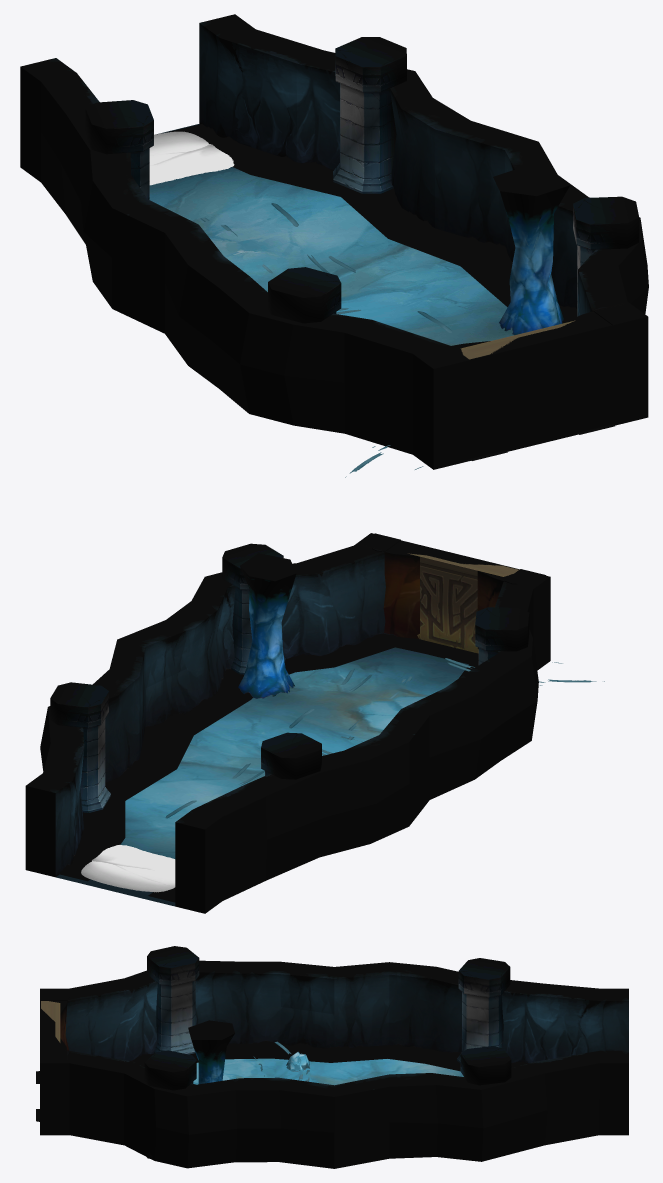
Rendered from Dungeon_033_StartRoad_002.fbx.
The picture shows the model from 3 angles, top to bottom: view 1: azimuth 30°, elevation 25°; view 2: azimuth 150°, elevation 25°; view 3: azimuth 270°, elevation 25°; orthographic projection. The views are drawn at different scales.
Visible parts, largest first — view 1: Dan1, Dan2, Dun_011_Door_002_old, Dan1_shadow, Dungeon_033_Pillar_001, Dungeon_011_Object_010, Dungeon_033_Pillar_001 (3), Dungeon_033_Pillar_001 (1), Dungeon_033_Pillar_001 (2), Exit_Light, Dun_011_Door_002, Dun_011_Door_003_WarpRoom; view 2: Dan1, Dan2, Dan1_shadow, Dungeon_011_Object_010, Dun_011_Door_002_old, Dun_011_Door_003_WarpRoom, Dungeon_033_Pillar_001, Exit_Light, Dungeon_033_Pillar_001 (1), Dungeon_033_Pillar_001 (2), Dungeon_033_Pillar_001 (3), Dun_011_Door_002_shadow; view 3: Dan1, Dungeon_033_Pillar_001 (2), Dungeon_033_Pillar_001 (3), Dan1_shadow, Dan2, Dungeon_011_Object_010, Dungeon_033_Pillar_001 (1), Dungeon_033_Pillar_001, Dun_011_Door_002_old, Dun_011_Door_003_WarpRoom.
Boxes of the visible parts, x1=… form: Dan1: x1=20, y1=14, x2=648, y2=469; Dan2: x1=149, y1=124, x2=513, y2=345; Dun_011_Door_002_old: x1=420, y1=303, x2=642, y2=458; Dan1_shadow: x1=166, y1=124, x2=614, y2=460; Dungeon_033_Pillar_001: x1=333, y1=37, x2=406, y2=193; Dungeon_011_Object_010: x1=493, y1=168, x2=569, y2=335; Dungeon_033_Pillar_001 (3): x1=85, y1=100, x2=153, y2=199; Dungeon_033_Pillar_001 (1): x1=573, y1=196, x2=639, y2=316; Dungeon_033_Pillar_001 (2): x1=268, y1=267, x2=341, y2=323; Exit_Light: x1=149, y1=131, x2=234, y2=185; Dun_011_Door_002: x1=421, y1=303, x2=640, y2=460; Dun_011_Door_003_WarpRoom: x1=460, y1=320, x2=575, y2=359; Dan1: x1=25, y1=533, x2=550, y2=913; Dan2: x1=56, y1=647, x2=468, y2=906; Dan1_shadow: x1=58, y1=633, x2=478, y2=902; Dungeon_011_Object_010: x1=238, y1=553, x2=296, y2=698; Dun_011_Door_002_old: x1=360, y1=533, x2=545, y2=648; Dun_011_Door_003_WarpRoom: x1=408, y1=553, x2=518, y2=653; Dungeon_033_Pillar_001: x1=50, y1=682, x2=110, y2=812; Exit_Light: x1=81, y1=845, x2=175, y2=892; Dungeon_033_Pillar_001 (1): x1=222, y1=543, x2=285, y2=674; Dungeon_033_Pillar_001 (2): x1=475, y1=607, x2=529, y2=664; Dungeon_033_Pillar_001 (3): x1=261, y1=732, x2=322, y2=857; Dun_011_Door_002_shadow: x1=396, y1=639, x2=477, y2=664; Dan1: x1=40, y1=960, x2=628, y2=1168; Dungeon_033_Pillar_001 (2): x1=147, y1=946, x2=199, y2=1054; Dungeon_033_Pillar_001 (3): x1=457, y1=958, x2=510, y2=1063; Dan1_shadow: x1=36, y1=1041, x2=527, y2=1121; Dan2: x1=193, y1=1058, x2=463, y2=1085; Dungeon_011_Object_010: x1=188, y1=1020, x2=234, y2=1084; Dungeon_033_Pillar_001 (1): x1=144, y1=1050, x2=196, y2=1159; Dungeon_033_Pillar_001: x1=460, y1=1046, x2=511, y2=1154; Dun_011_Door_002_old: x1=40, y1=989, x2=69, y2=1060; Dun_011_Door_003_WarpRoom: x1=41, y1=1001, x2=60, y2=1042.
Size of what is drawn, in the model's own units: 8.76 by 2.96 by 16.17.
